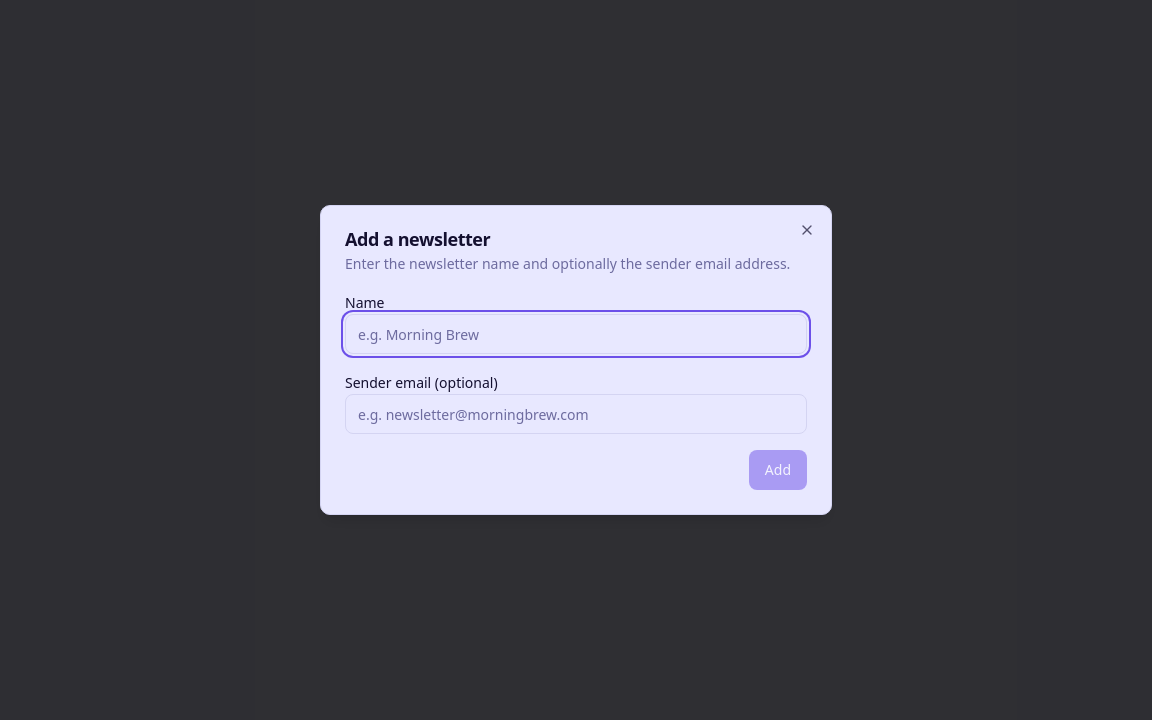
AddNewsletterModal › enables submit when name is entered
Type "Test Newsletter" into the field labelled "Name". click: [576, 334]
box: [345,314,807,354]
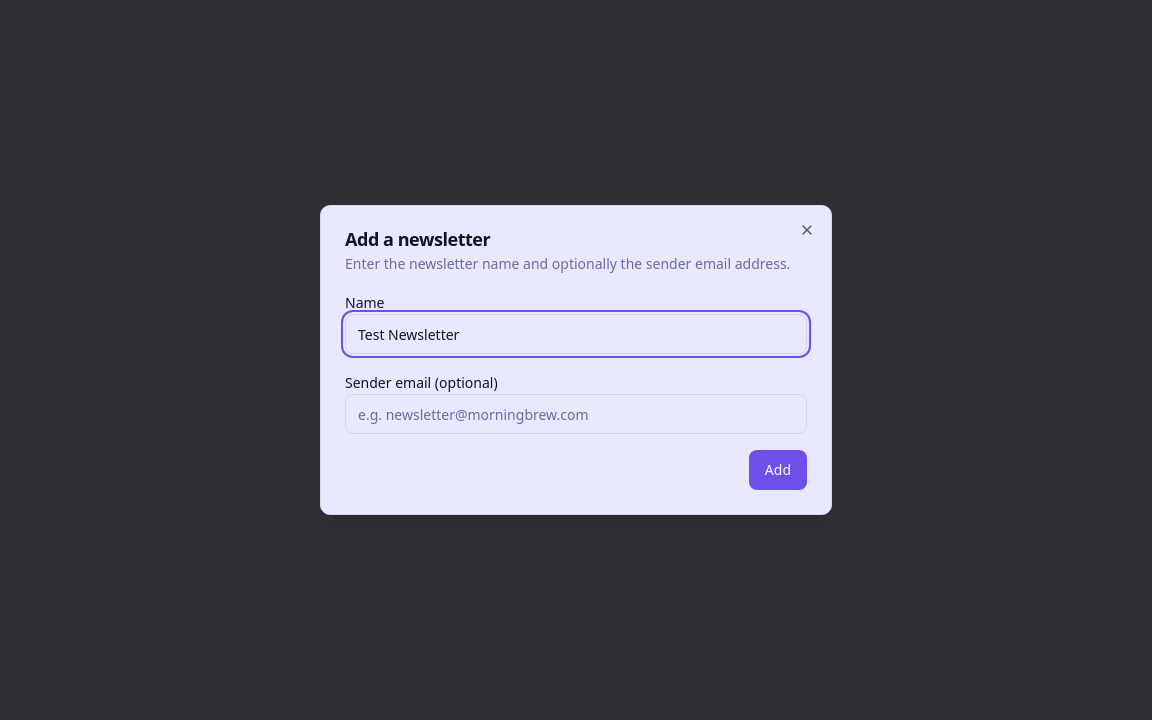
Expected: the button "Add" is enabled, [749,450,807,490]
